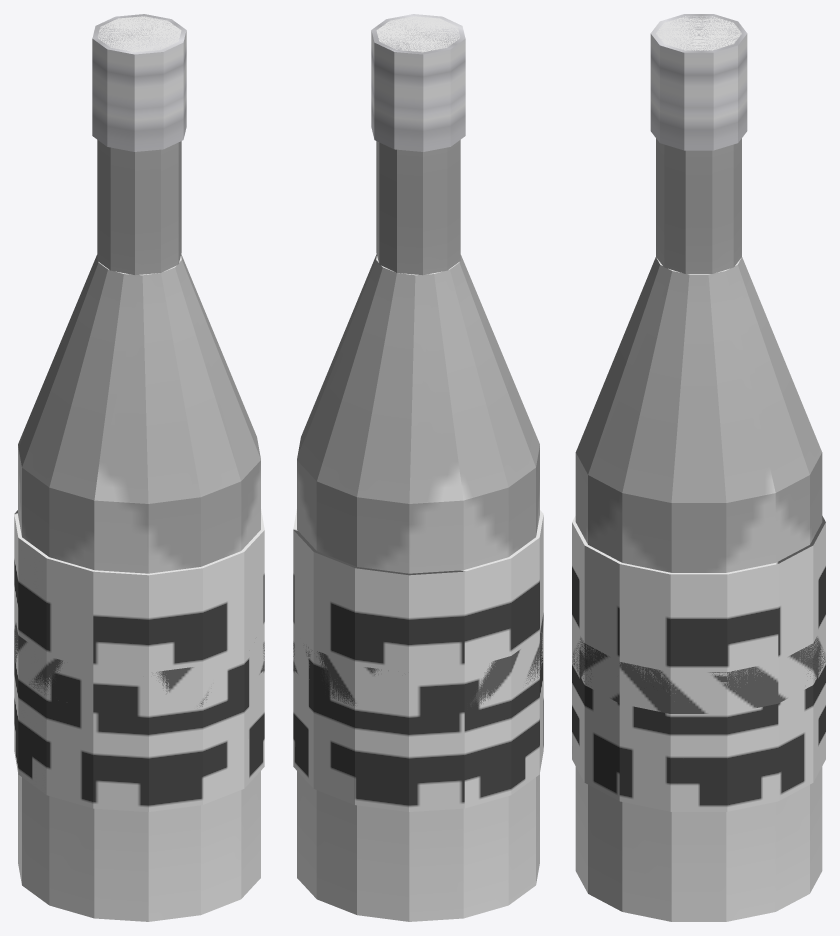
The model's file is olio_oliva.obj.
3 views of the same model, side by side, from view 1: azimuth 30°, elevation 25°; view 2: azimuth 150°, elevation 25°; view 3: azimuth 270°, elevation 25° (orthographic).
Parts seen in each view (by area): view 1: olio_oliva; view 2: olio_oliva; view 3: olio_oliva.
Part boxes in pixels (x1,y1,x2,y2): olio_oliva: (14,14,264,921); olio_oliva: (293,14,543,921); olio_oliva: (572,14,825,921).
Bounding box in the file's own units: 0.0804 × 0.3 × 0.0824.
Materials: 4 (4 with a texture image).
